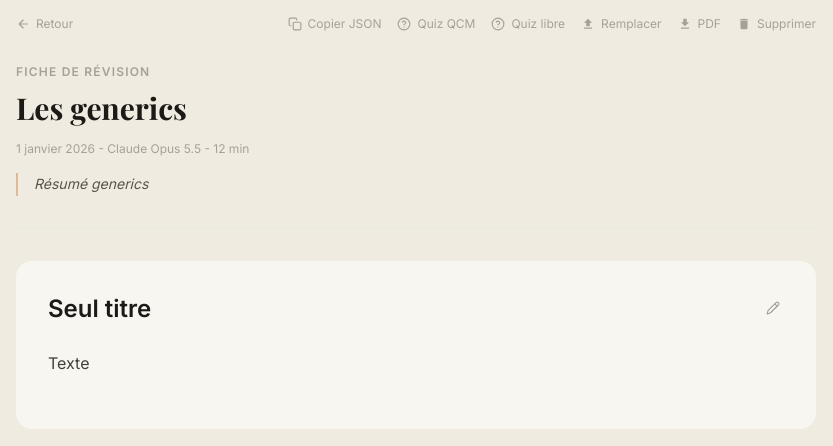
Test: FlashCardDetailPage copy JSON › shows a failure message when the clipboard rejects
The width and height of the screenshot is (833, 446).
What coordinates should you click on to do the following:
click the button "Copier JSON"
I would click on:
 (335, 24)
Its box is [288,16,382,32].
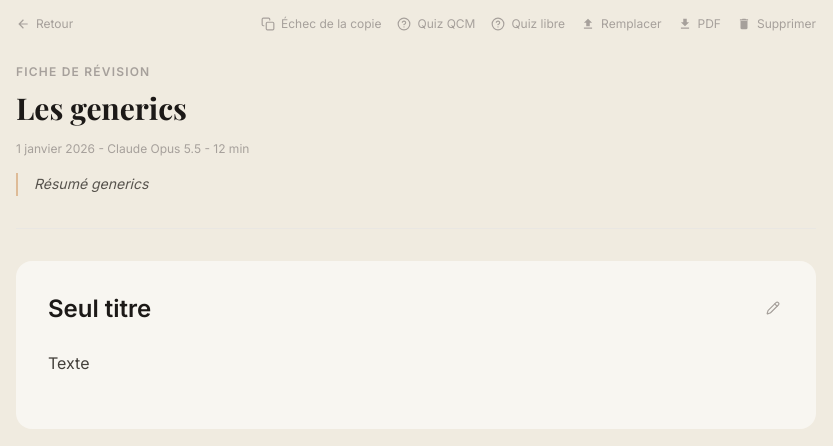
Check: the button "Échec de la copie" is shown, box [261,16,381,32]
